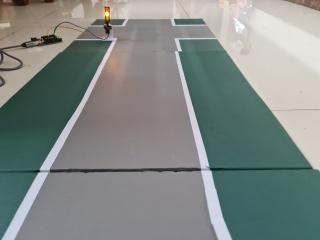yellow: (99, 2, 116, 27)
